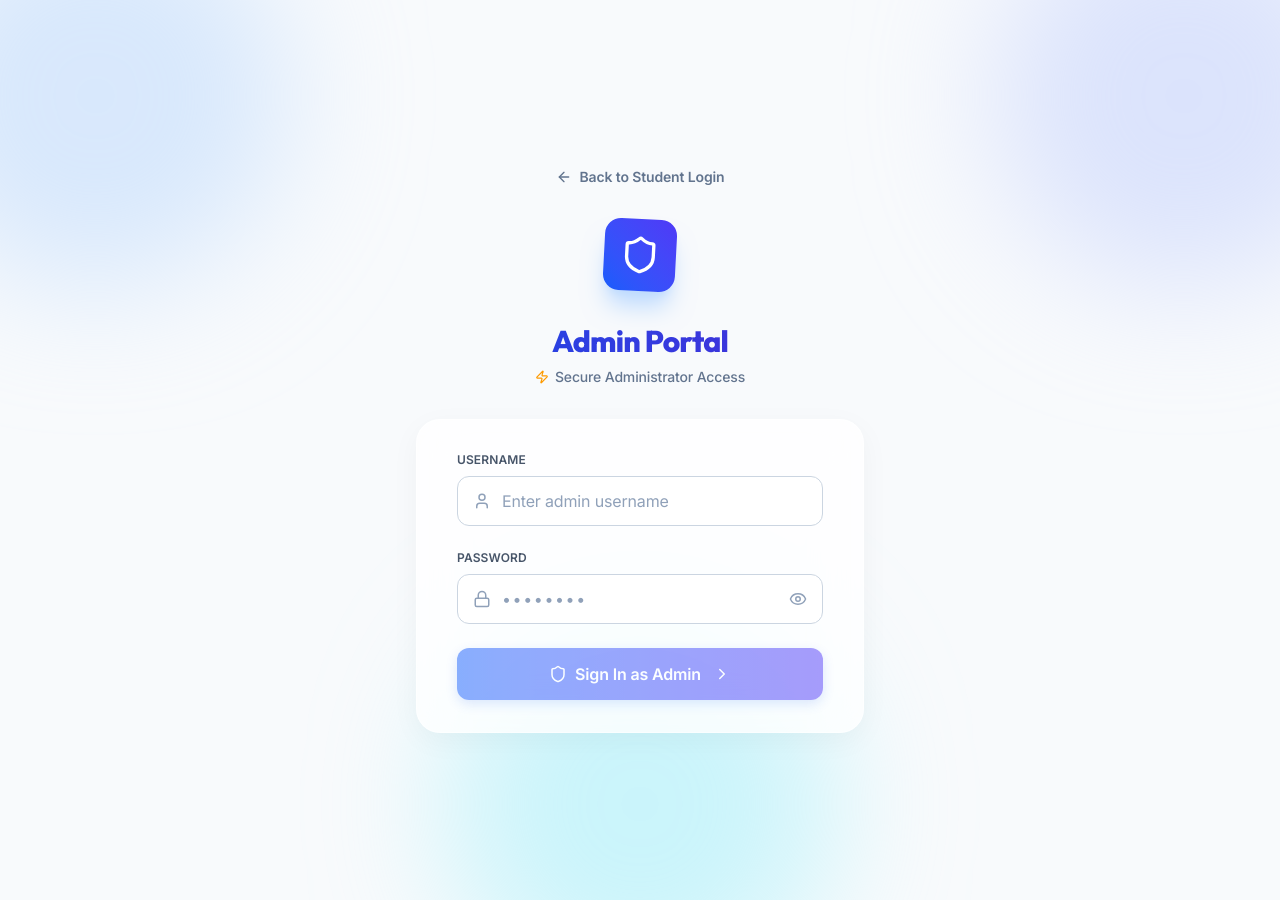
Scenario: AdminLogin — Form Validation › shows error when password is empty after entering username
Type "sscet" into the field with placeholder "Enter admin username" at (640, 501), box [457,476,823,526]
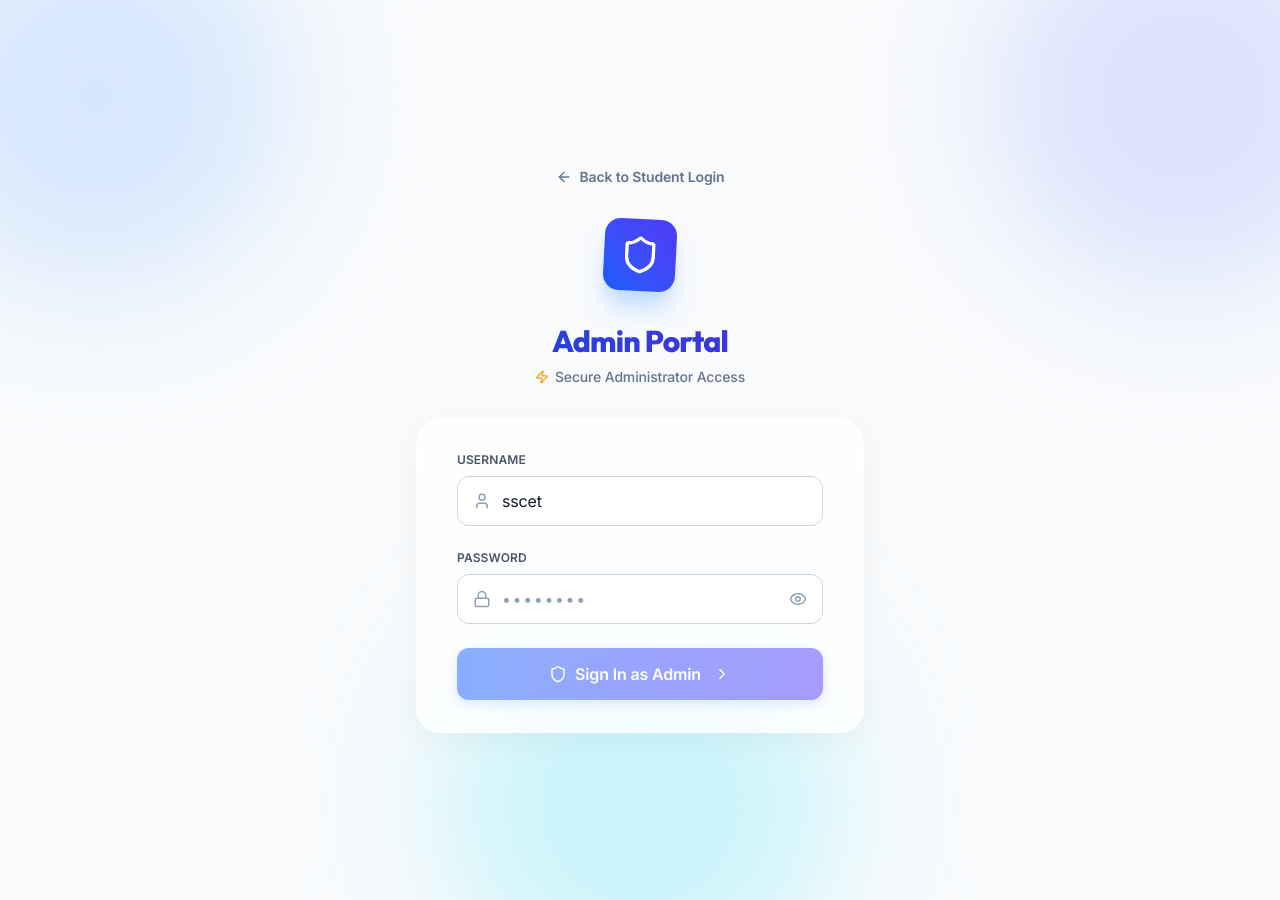
Submit the form, box [457,452,823,700]
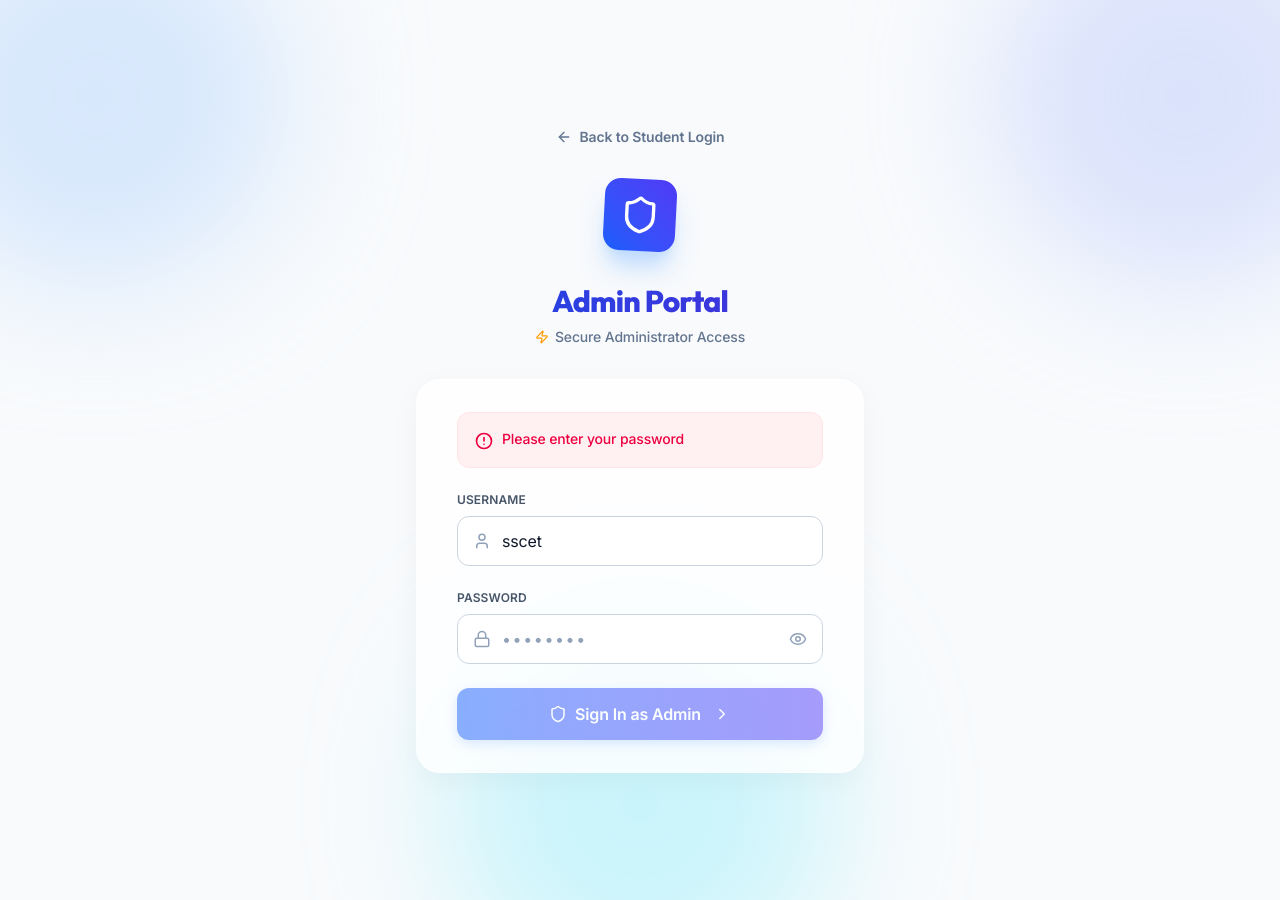
Now the text "Please enter your password" is shown, box [457,412,823,468]
